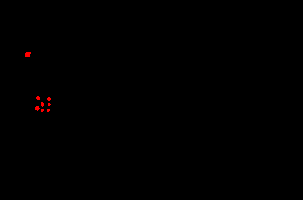Target: (25, 52, 31, 57), (35, 106, 40, 111), (36, 96, 40, 100), (47, 97, 51, 101), (41, 102, 44, 107), (48, 103, 51, 106), (41, 109, 44, 112), (47, 109, 50, 112)
